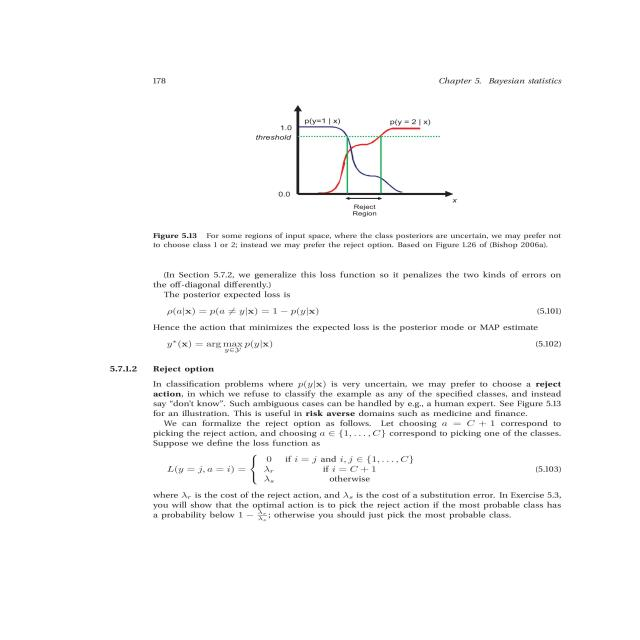diagram: (128, 88, 584, 255)
